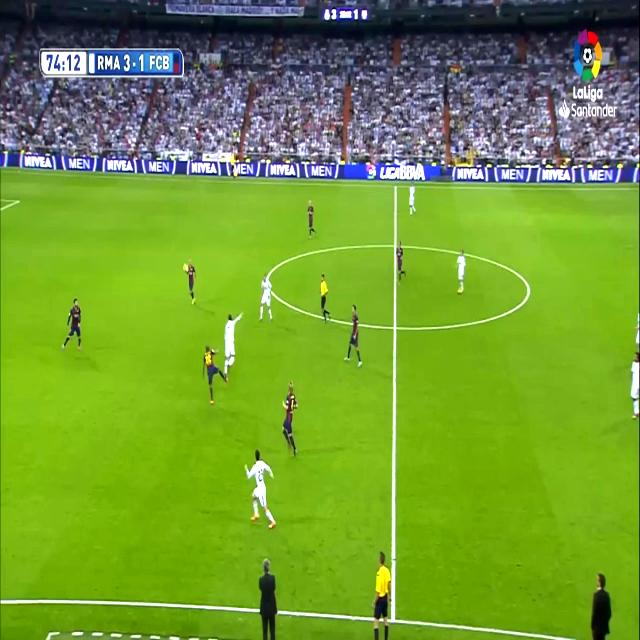halfcircle_bottom: (389, 311, 401, 341)
halfcircle_top: (390, 234, 401, 257)
midline_bottom_intersection: (385, 600, 400, 627)
midline_top_intersection: (392, 178, 399, 194)
